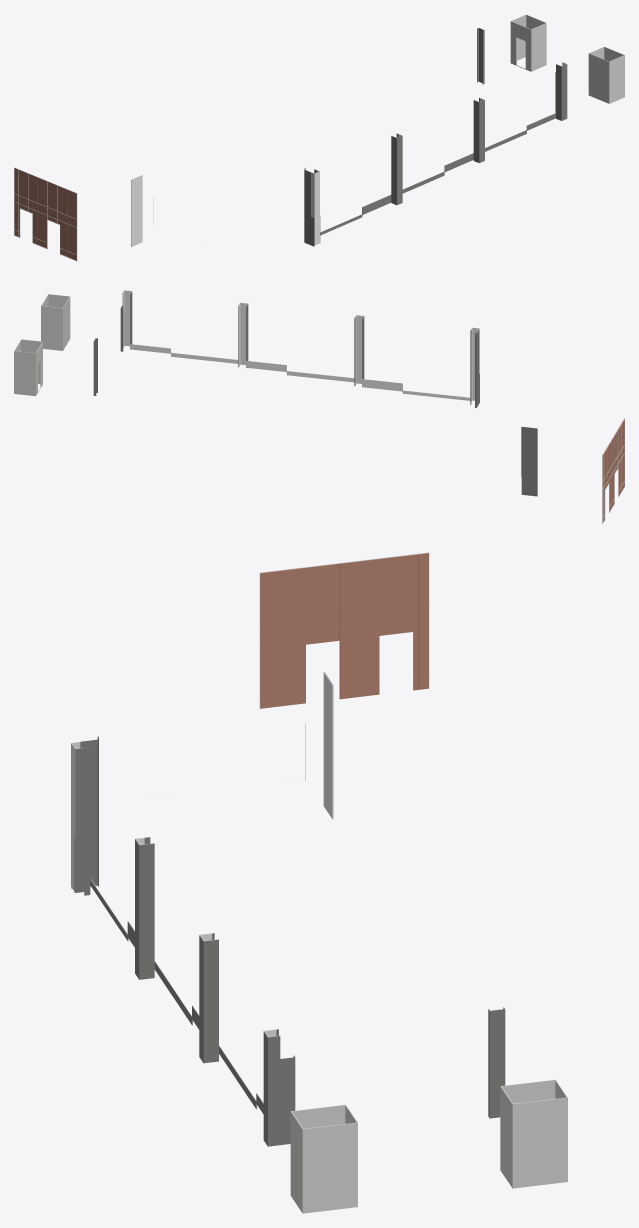
The model's file is 63c90910-a4b0-4267-92d0-631dca7a2431.glb.
The picture shows the model from 3 angles, top to bottom: view 1: azimuth 30°, elevation 25°; view 2: azimuth 150°, elevation 25°; view 3: azimuth 270°, elevation 25°; orthographic projection. The views are drawn at different scales.
Visible parts, largest first — view 1: 350, 367, 353, 371, 485, 1995; view 2: 377, 359, 484, 350, 272; view 3: 374, 356, 694, 723, 729, 702, 721, 722, 704, 716, 2005, 371 (+11 smaller).
Boxes of the visible parts, <box> form: 350: <box>588,53,609,103</box>; 367: <box>510,21,531,71</box>; 353: <box>609,55,624,103</box>; 371: <box>531,23,546,71</box>; 485: <box>131,192,142,246</box>; 1995: <box>304,170,311,216</box>; 377: <box>14,351,35,395</box>; 359: <box>41,306,62,350</box>; 484: <box>521,444,537,496</box>; 350: <box>62,296,70,350</box>; 272: <box>362,379,402,391</box>; 374: <box>513,1097,567,1188</box>; 356: <box>303,1122,357,1213</box>; 694: <box>260,638,286,696</box>; 723: <box>339,629,365,686</box>; 729: <box>339,560,365,615</box>; 702: <box>260,570,286,625</box>; 721: <box>365,557,391,612</box>; 722: <box>313,564,339,618</box>; 704: <box>287,567,313,621</box>; 716: <box>392,554,417,609</box>; 2005: <box>490,1009,505,1099</box>; 371: <box>500,1086,513,1188</box>.
Size of what is drawn, in the model's own units: 44.18 by 6.7 by 16.41.
